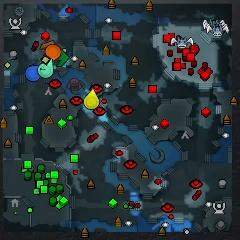p1: (25, 65, 41, 83)
p2: (37, 59, 54, 78)
p4: (84, 89, 99, 109)
p5: (46, 44, 62, 60)
x4: (54, 50, 69, 67)
x5: (40, 40, 55, 50)
